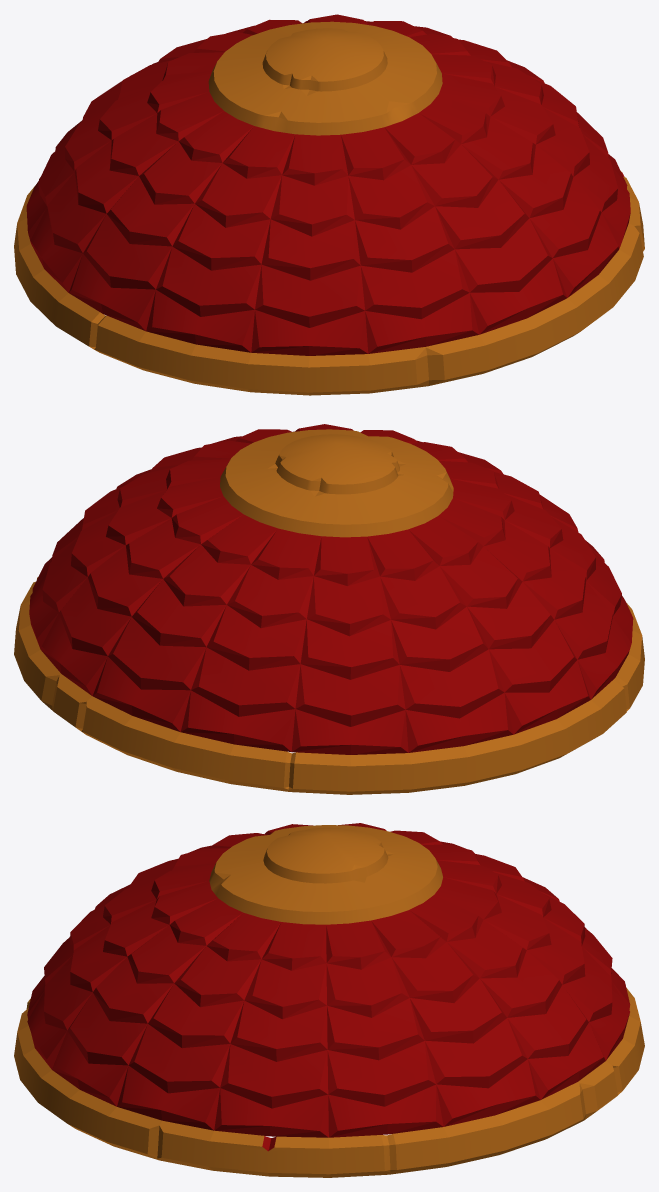
File: testScene_roof.FBX
The picture shows the model from 3 angles, top to bottom: view 1: azimuth 30°, elevation 25°; view 2: azimuth 150°, elevation 25°; view 3: azimuth 270°, elevation 25°; orthographic projection.
Parts seen in each view (by area): view 1: testScene_roof; view 2: testScene_roof; view 3: testScene_roof.
Part boxes in pixels (box(x1,y1,x2,y2)): testScene_roof: box(14, 14, 644, 395); testScene_roof: box(14, 424, 644, 794); testScene_roof: box(14, 823, 644, 1177).
Size of the model in its own units: 3.47 by 1.4 by 3.47.
